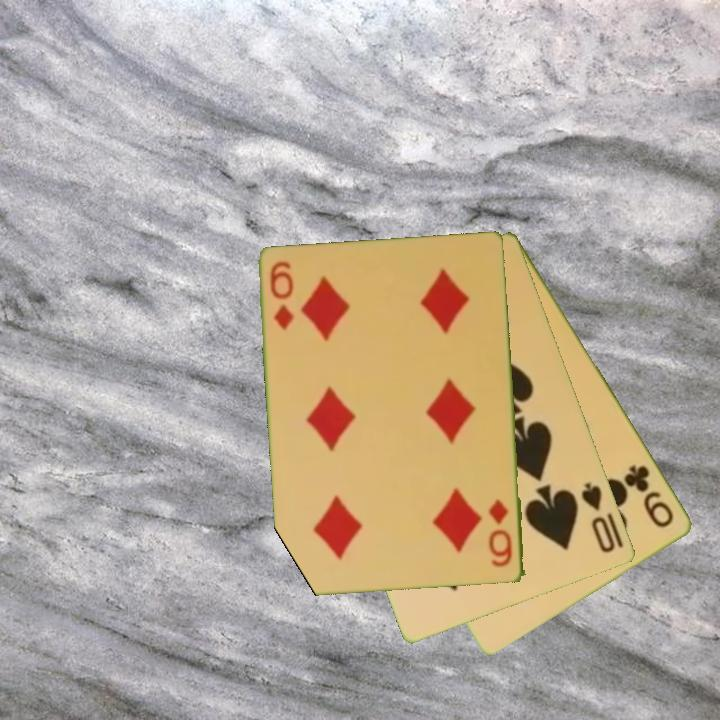10s: (578, 479, 619, 556)
6d: (267, 258, 297, 333), (485, 496, 515, 570)
9c: (621, 461, 677, 531)
